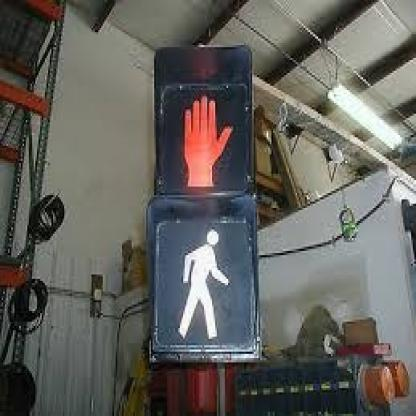Don-t Walk: (152, 83, 252, 189)
Walk: (152, 215, 257, 352)
